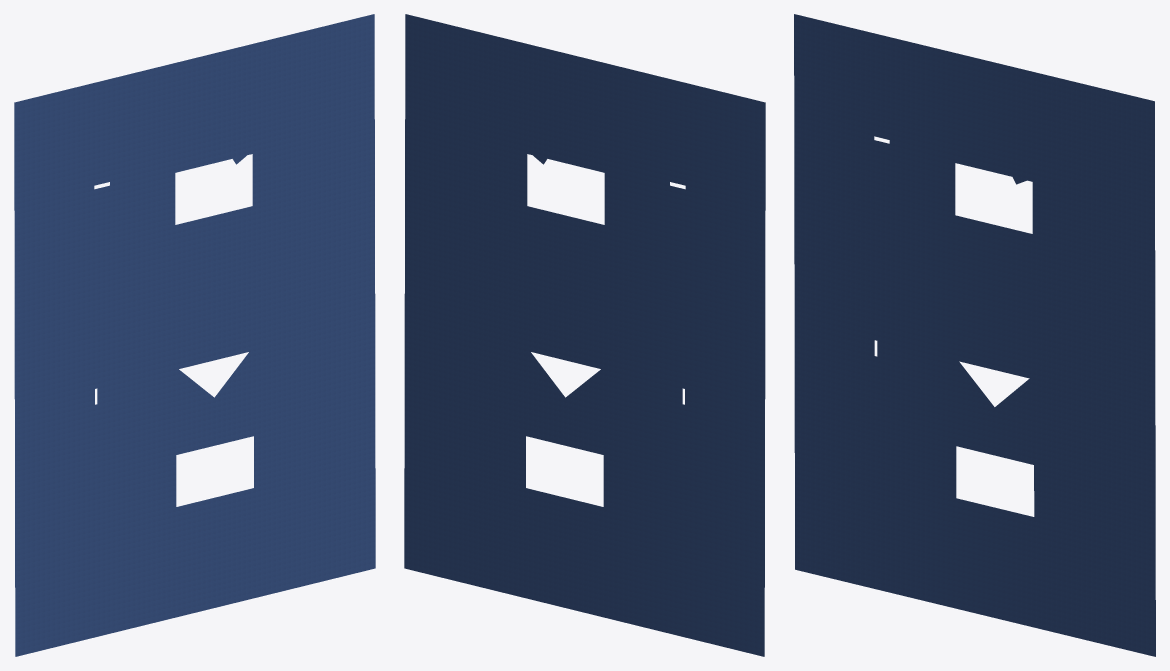
The model's file is floor_1.obj.
The picture shows the model from 3 angles, left to right: view 1: azimuth 30°, elevation 25°; view 2: azimuth 150°, elevation 25°; view 3: azimuth 330°, elevation 25°; orthographic projection.
Visible parts, largest first — view 1: floor_1; view 2: floor_1; view 3: floor_1.
Boxes of the visible parts, x1,y1,x2,y2 form: floor_1: [14, 14, 375, 656]; floor_1: [404, 14, 765, 656]; floor_1: [794, 14, 1155, 656].
Size of the model in its own units: 72.03 by 106 by 0.1.
